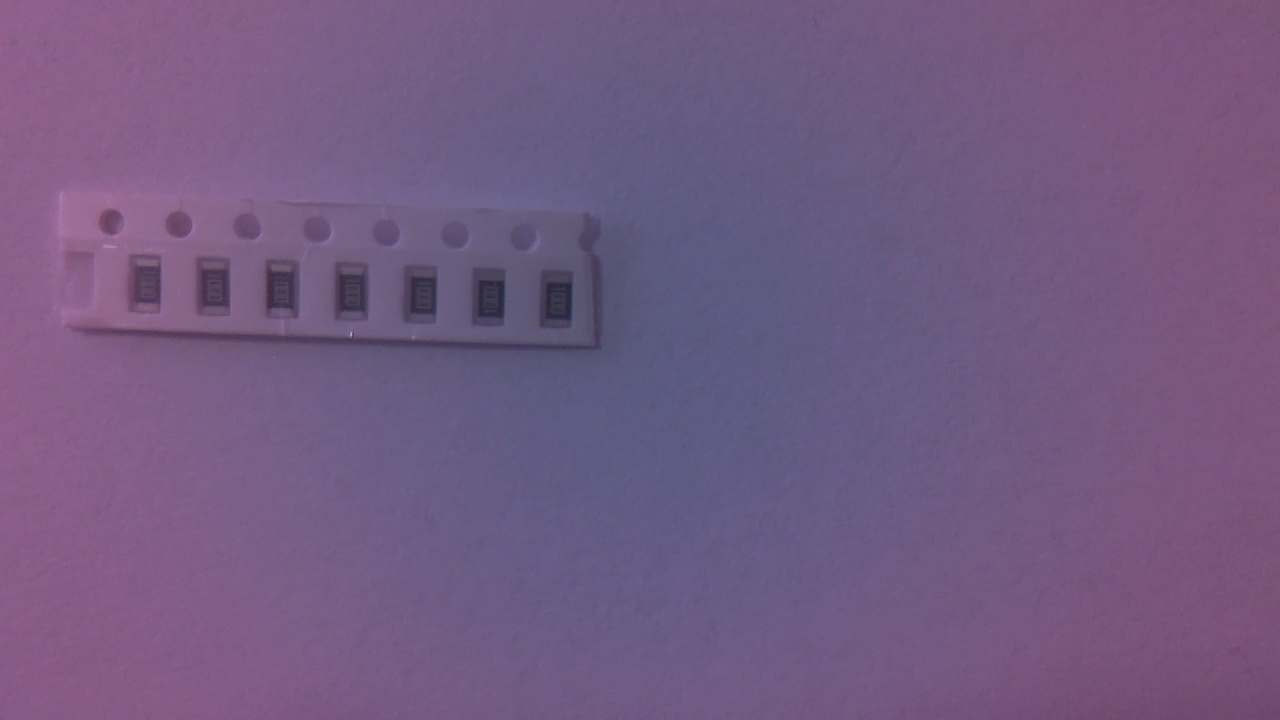Resistor: (405, 266, 446, 328), (132, 258, 171, 321), (267, 262, 305, 325), (544, 271, 581, 335), (338, 263, 375, 326), (201, 263, 239, 324), (474, 270, 511, 332)
